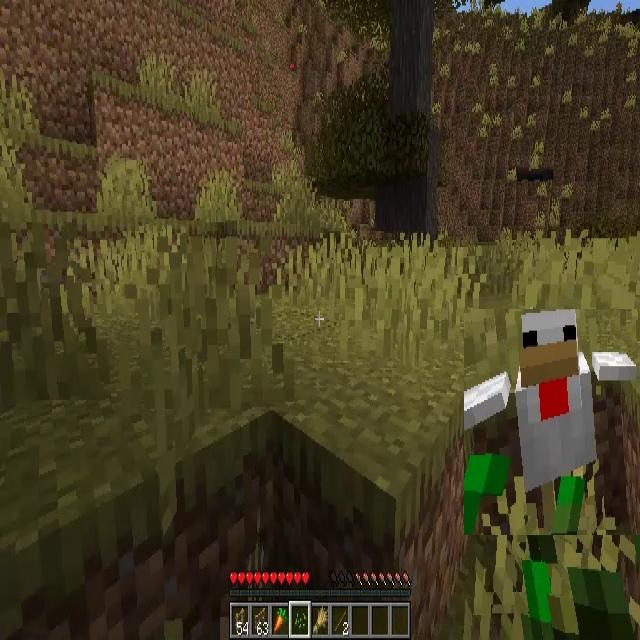duck: (464, 309, 640, 535)
